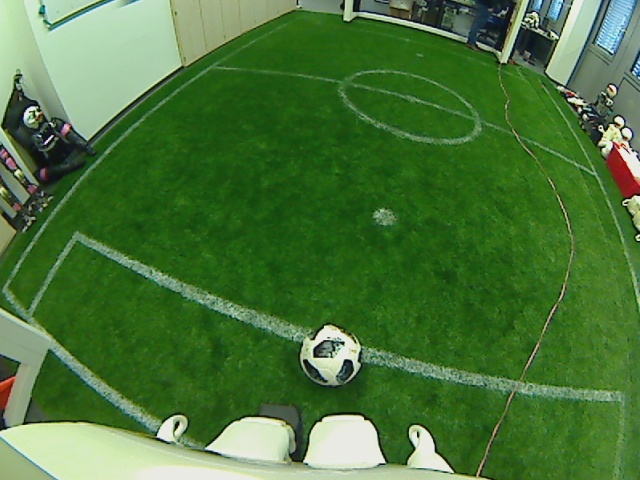ball: (298, 320, 363, 392)
